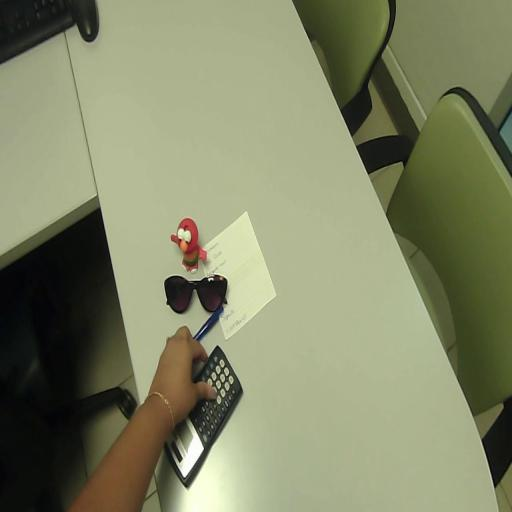pen: (194, 306, 223, 341)
